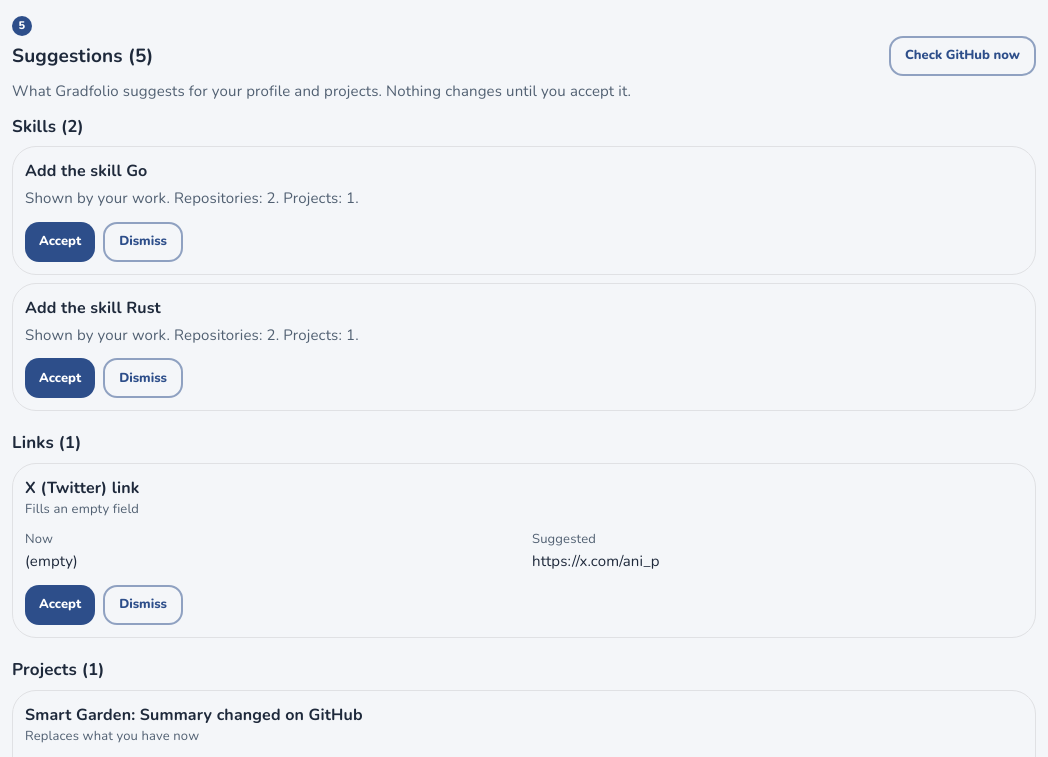
Test: the inbox › any other failure keeps the card and says why
Expected: the heading "Suggestions (5)" is shown, [12, 44, 154, 68]
Click the button with aria-label "Accept: Add the skill Go". click: [60, 242]
box: [25, 222, 95, 262]
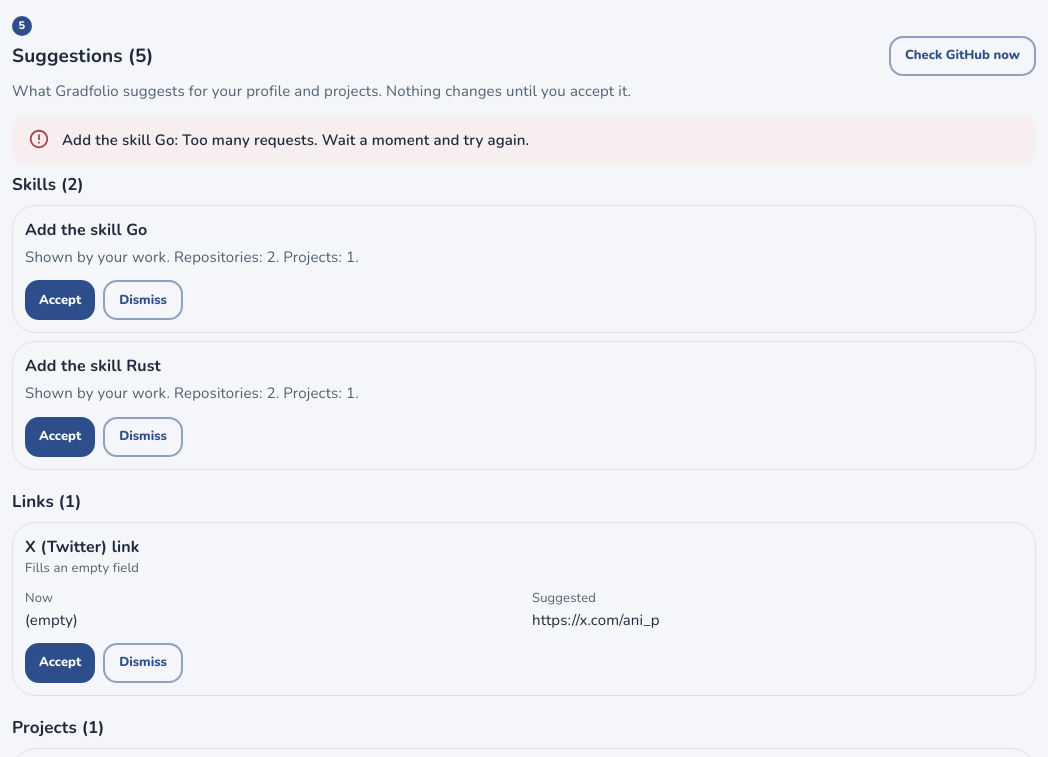
Expected: the heading "Add the skill Go" is shown, [25, 219, 148, 241]
Now the message shows "Too many requests", box [62, 130, 529, 150]
